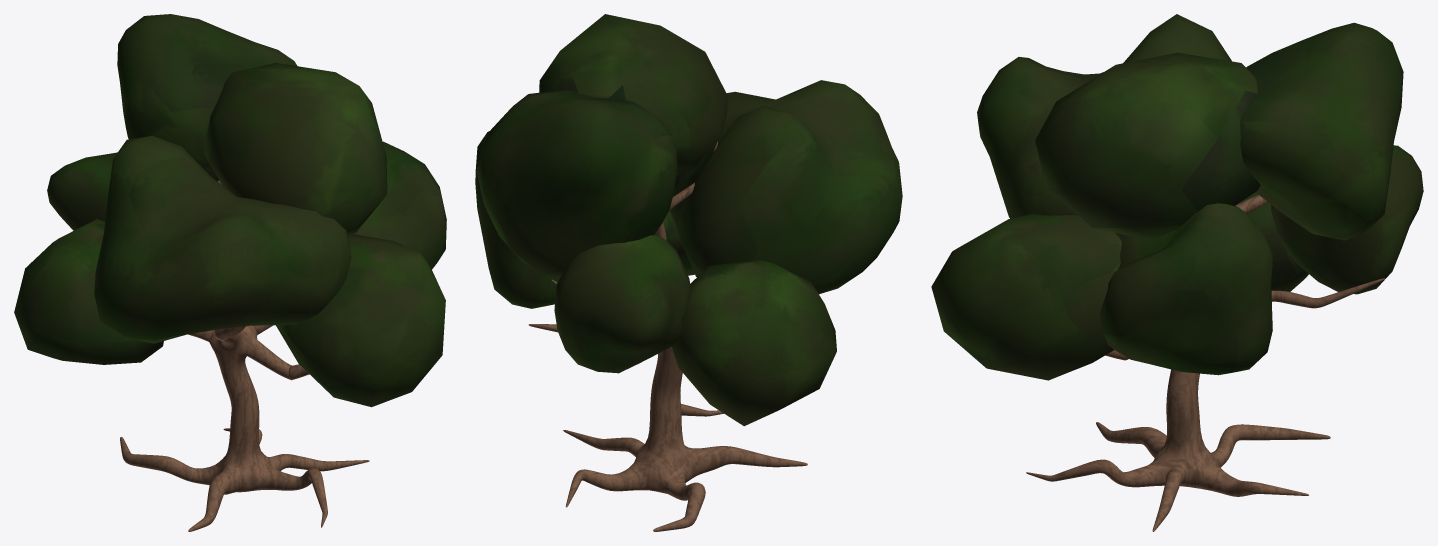
File: Tree.fbx
3 views of the same model, side by side, from view 1: azimuth 30°, elevation 25°; view 2: azimuth 150°, elevation 25°; view 3: azimuth 270°, elevation 25° (orthographic). The views are drawn at different scales.
Visible parts, largest first — view 1: Leaves.004, Leaves.005, Leaves.006, Leaves.003, Tree, Leaves.007, Leaves.001, Leaves.002; view 2: Leaves.004, Leaves.003, Leaves.007, Leaves.005, Leaves.002, Tree, Leaves.001, Leaves.006; view 3: Leaves.005, Leaves.003, Leaves.006, Leaves.001, Leaves.004, Tree, Leaves.002, Leaves.007, TreeBranch.000.
Boxes of the visible parts, x1,y1,x2,y2 form: Leaves.004: (94,135,351,343); Leaves.005: (204,63,387,235); Leaves.006: (276,234,445,407); Leaves.003: (117,14,297,181); Tree: (120,325,369,531); Leaves.007: (14,219,163,364); Leaves.001: (354,141,446,269); Leaves.002: (47,152,117,230); Leaves.004: (669,80,902,294); Leaves.003: (476,90,677,278); Leaves.007: (671,260,836,426); Leaves.005: (539,14,727,175); Leaves.002: (554,233,690,373); Tree: (563,346,807,531); Leaves.001: (475,131,559,308); Leaves.006: (663,211,694,275); Leaves.005: (1035,52,1260,238); Leaves.003: (1240,22,1403,240); Leaves.006: (931,214,1121,380); Leaves.001: (1100,203,1272,375); Leaves.004: (977,14,1237,218); Tree: (1026,358,1330,531); Leaves.002: (1271,145,1423,294); Leaves.007: (1238,192,1308,291); TreeBranch.000: (1271,278,1384,308).
Bounding box in the file's own units: 518 × 560 × 551.
Materials: 2 (2 with a texture image).
